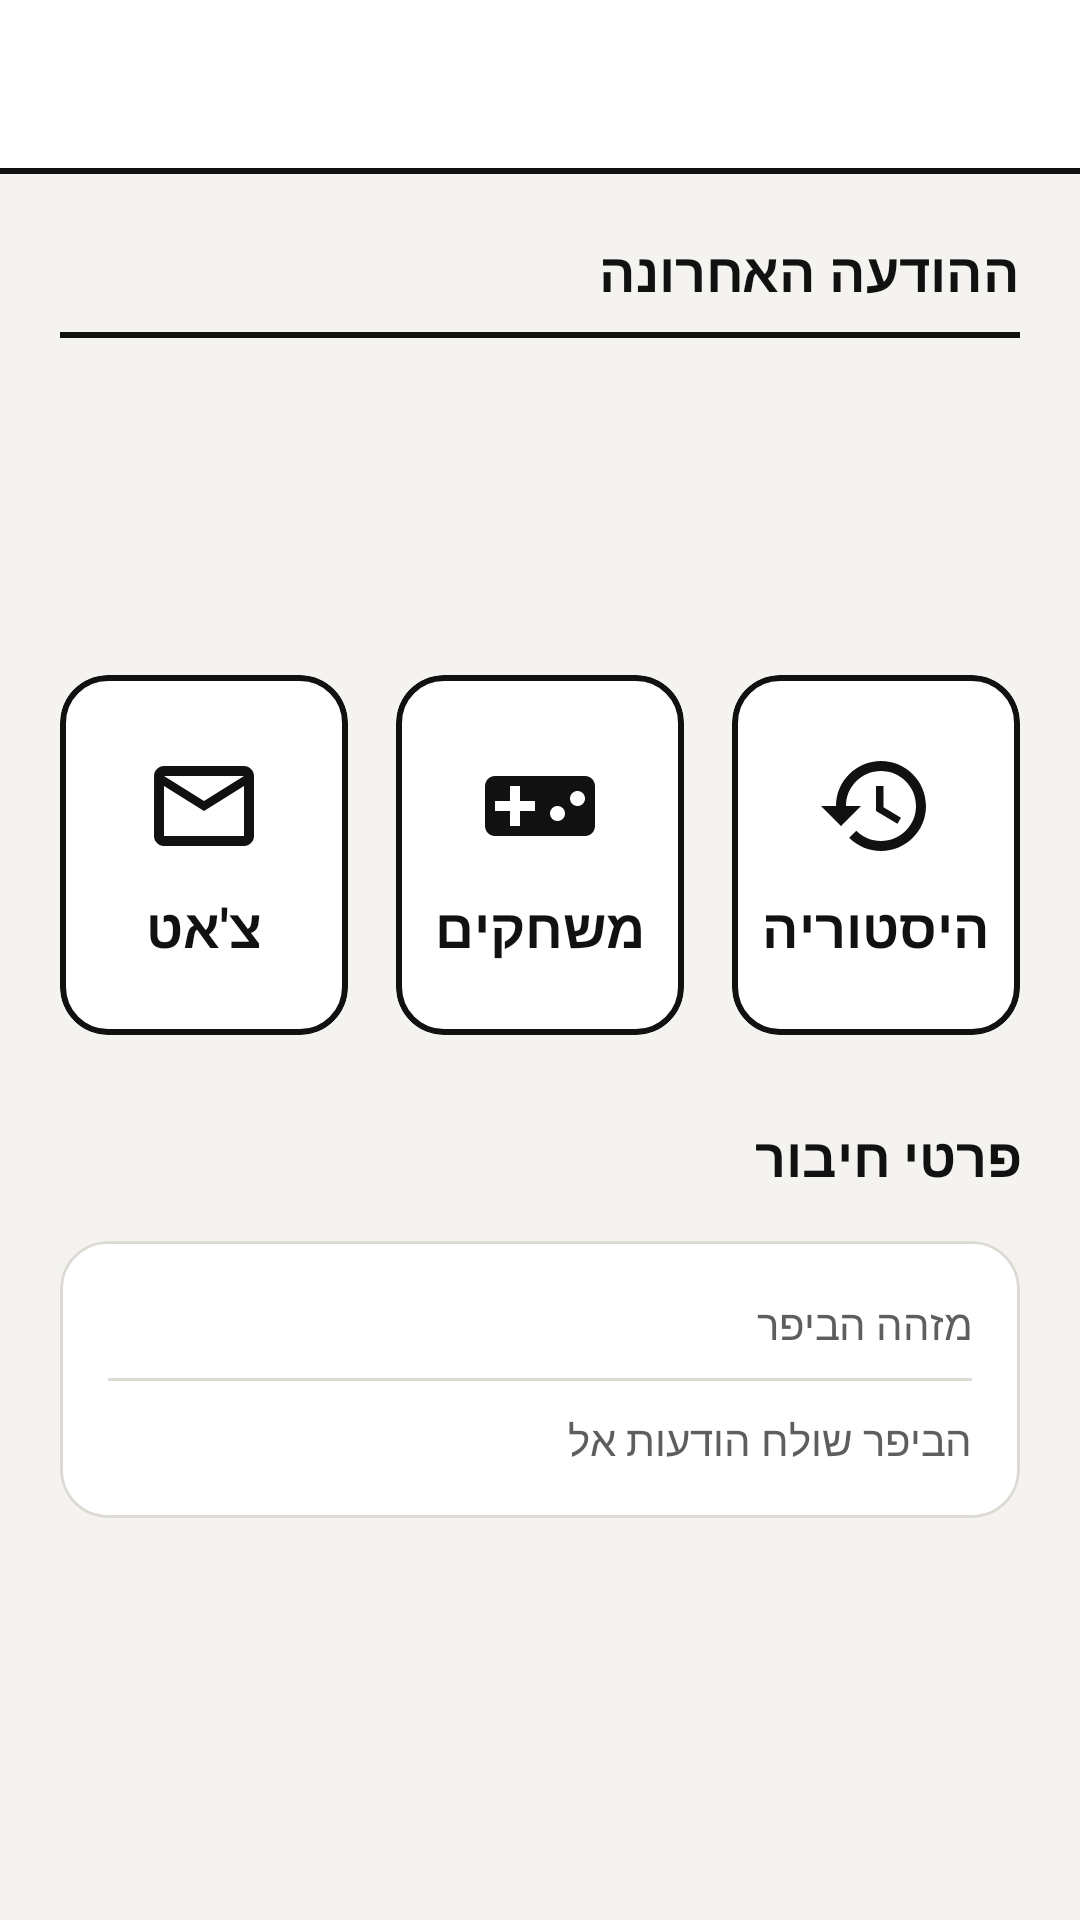

Icon bounding boxes for this 1080 x 1920 phone screenshot, format (x1, y1, x2, y2):
games: (485, 776, 595, 836)
history: (821, 761, 926, 851)
inbox: (154, 766, 254, 846)
